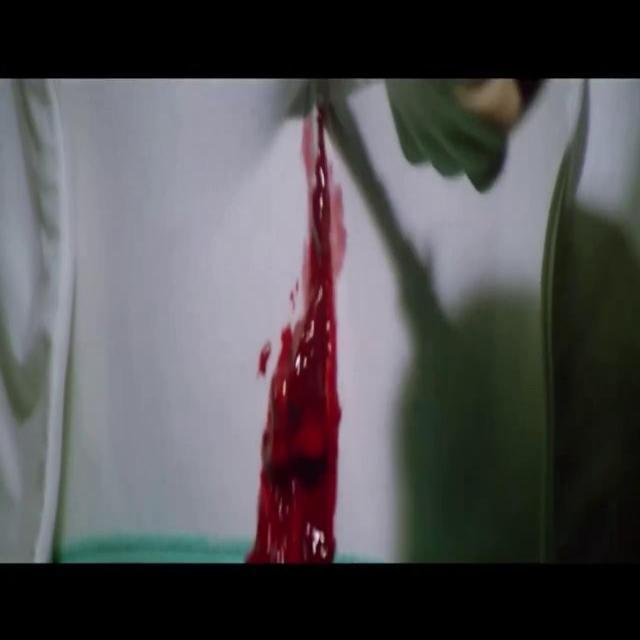flood: (259, 100, 339, 564)
